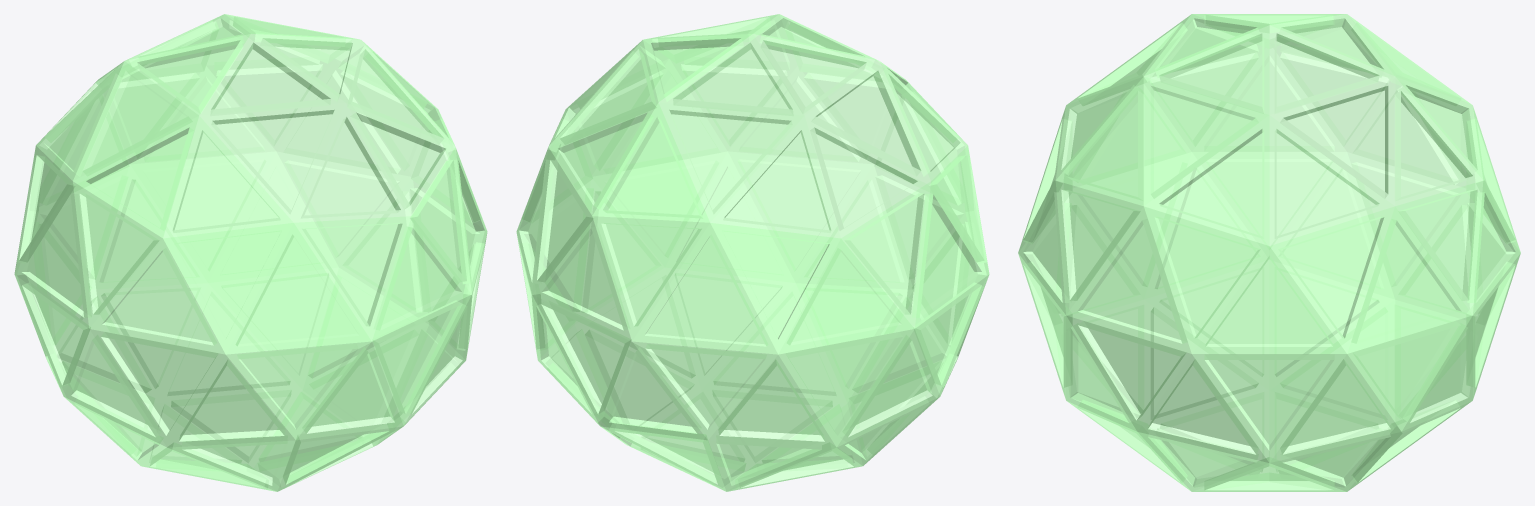
File: PrototypeCockpitOrb.fbx
3 views of the same model, side by side, from view 1: azimuth 30°, elevation 25°; view 2: azimuth 150°, elevation 25°; view 3: azimuth 270°, elevation 25° (orthographic). The views are drawn at different scales.
Visible parts, largest first — view 1: Icosphere.001; view 2: Icosphere.001; view 3: Icosphere.001.
Part boxes in pixels (bbox=[...]): Icosphere.001: bbox=[14, 14, 487, 491]; Icosphere.001: bbox=[516, 14, 989, 491]; Icosphere.001: bbox=[1018, 14, 1520, 491].
Bounding box in the file's own units: 21.32 × 22.42 × 22.42.
